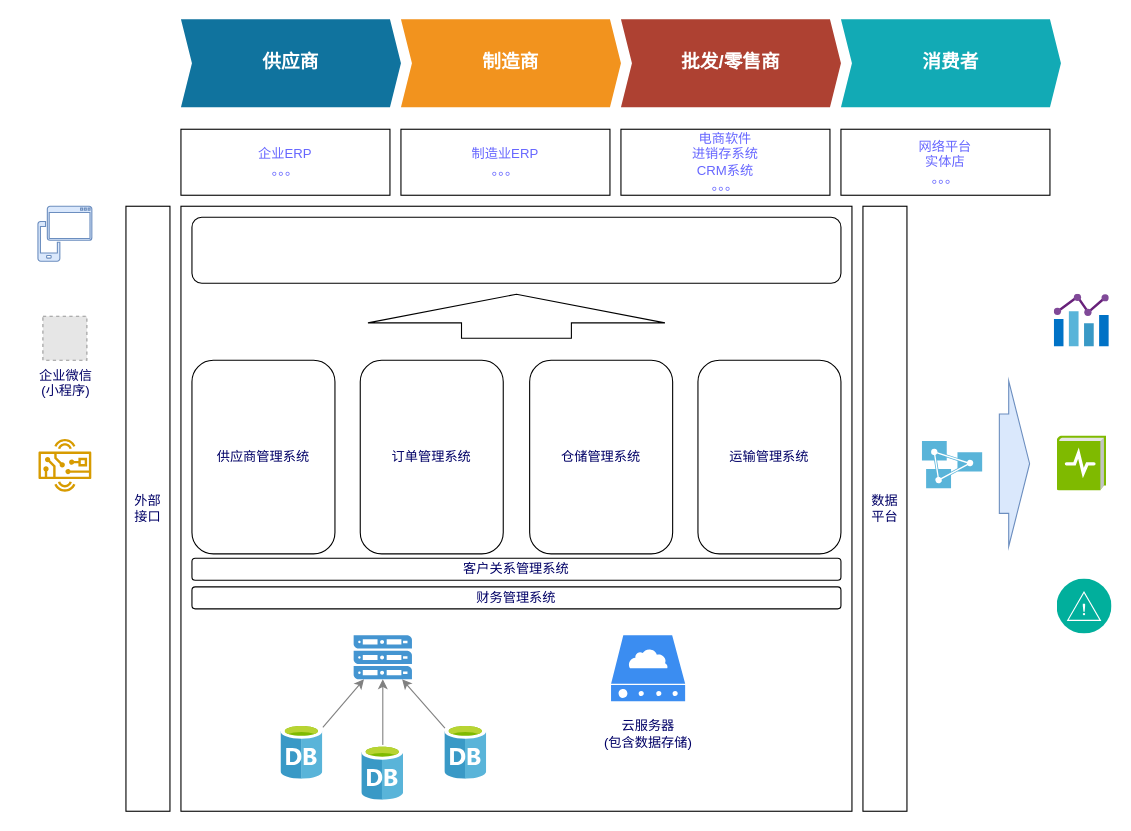
Image size: 1131x831. Some labels were removed from this diagram. Grey dashed boxes stand in for pictures. Each missing label, with the centre of its shape:
"供应链管理平台(SaaS) 或集成供应链管理平台(ISC)" goes at point 516,249.
"商业智能" goes at point 1081,320.
"大数据分析" goes at point 952,464.
"物联网 (LoT)" goes at point 64,464.
"第三方相关系统" goes at point 64,233.
"系统监控" goes at point 1081,463.
"预警系统" goes at point 1084,606.
"高可用性服务器栈" goes at point 382,657.
